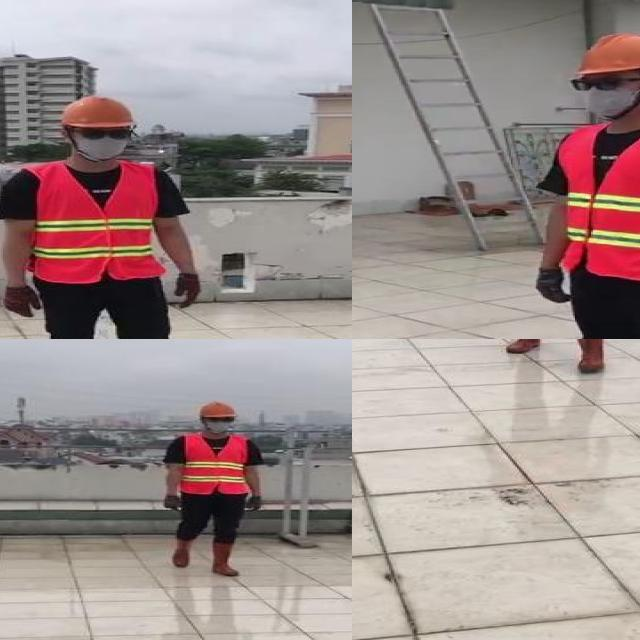boots: (568, 339, 605, 374), (211, 540, 243, 577), (168, 537, 192, 567), (508, 339, 543, 352)
face_mask: (74, 126, 135, 160), (205, 414, 235, 432)
glasses: (74, 125, 133, 142), (204, 415, 236, 424)
hand_glove: (3, 288, 42, 317), (174, 277, 200, 310), (163, 494, 184, 511), (243, 495, 262, 513)
head_helmet: (567, 32, 640, 76), (54, 94, 137, 128), (196, 399, 238, 418)
person: (0, 92, 206, 339), (513, 26, 640, 339), (162, 402, 274, 581)
vest: (31, 163, 163, 282), (557, 122, 640, 278), (180, 434, 252, 494)
